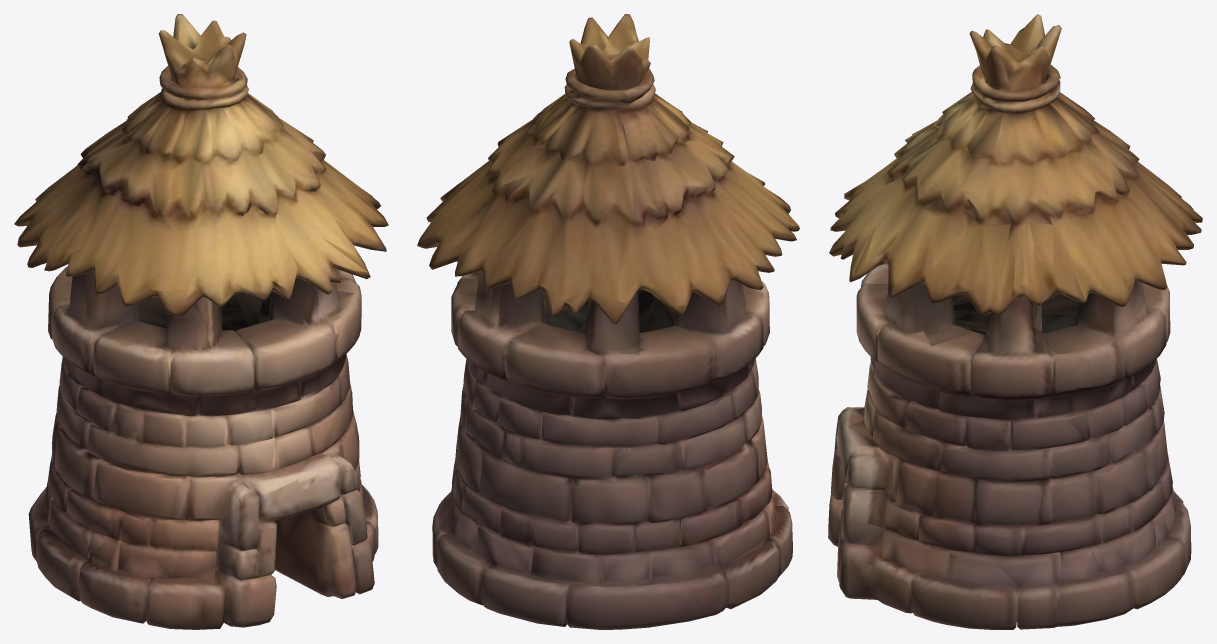
File: c07_oca_palha.glb
The picture shows the model from 3 angles, left to right: view 1: azimuth 30°, elevation 25°; view 2: azimuth 150°, elevation 25°; view 3: azimuth 270°, elevation 25°; orthographic projection.
Parts seen in each view (by area): view 1: c07_oca_palha; view 2: c07_oca_palha; view 3: c07_oca_palha.
Part boxes in pixels (left/top/right/bottom): c07_oca_palha: left=14, top=14, right=388, bottom=629; c07_oca_palha: left=417, top=14, right=799, bottom=629; c07_oca_palha: left=828, top=14, right=1202, bottom=629.
Bounding box in the file's own units: 1.86 × 2.87 × 1.82.
1 material, 1 textured.
